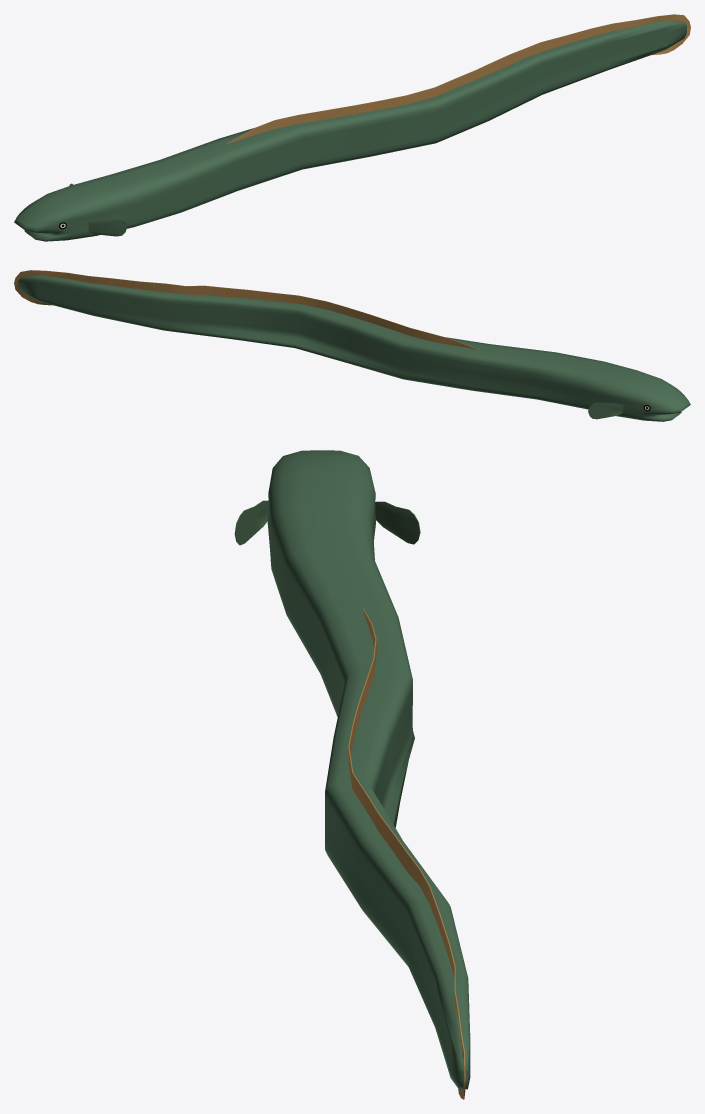
The model's file is eel_6.gltf.
3 renders of one model, top to bottom at view 1: azimuth 30°, elevation 25°; view 2: azimuth 150°, elevation 25°; view 3: azimuth 270°, elevation 25°, orthographic. The views are drawn at different scales.
Visible parts, largest first — view 1: node-0; view 2: node-0; view 3: node-0.
Part boxes in pixels (x1,y1,x2,y2): node-0: (14,14,690,241); node-0: (14,270,690,421); node-0: (234,450,470,1099).
Size of the model in its own units: 128 by 8.87 by 20.53.
